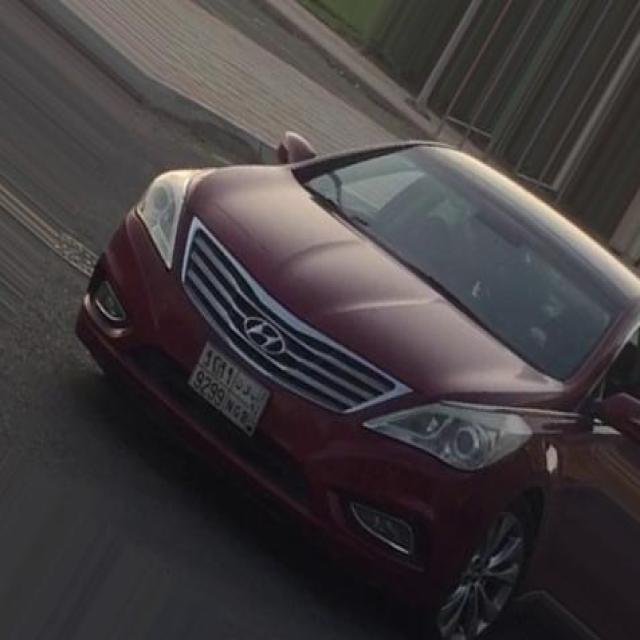Car-plate: (170, 330, 286, 453)
